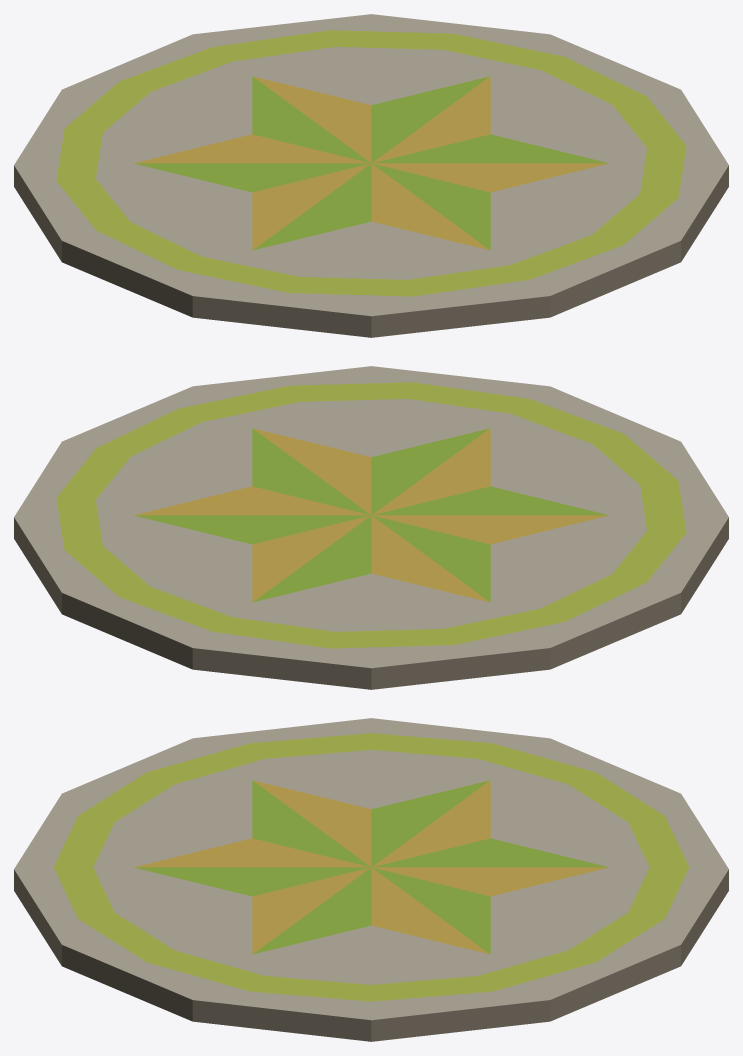
File: growth_marker.glb
3 renders of one model, top to bottom at view 1: azimuth 30°, elevation 25°; view 2: azimuth 150°, elevation 25°; view 3: azimuth 270°, elevation 25°, orthographic.
Visible parts, largest first — view 1: growth_marker, growth_marker_glow; view 2: growth_marker, growth_marker_glow; view 3: growth_marker, growth_marker_glow.
Boxes of the visible parts, x1,y1,x2,y2 form: growth_marker: (14,14,728,337); growth_marker_glow: (56,30,686,296); growth_marker: (14,366,728,689); growth_marker_glow: (56,382,686,648); growth_marker: (14,718,728,1041); growth_marker_glow: (53,733,689,1001).
Bounding box in the file's own units: 1.8 × 0.065 × 1.8.
